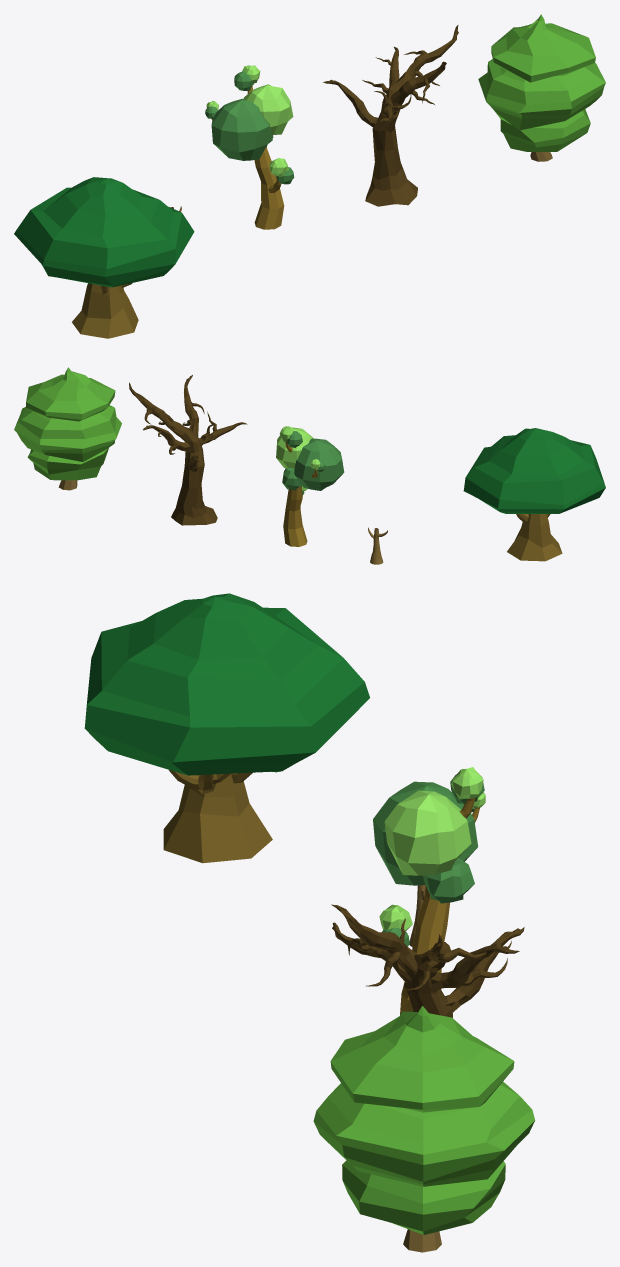
File: forest.fbx
3 views of the same model, one above another, from view 1: azimuth 30°, elevation 25°; view 2: azimuth 150°, elevation 25°; view 3: azimuth 270°, elevation 25° (orthographic). The views are drawn at different scales.
Visible parts, largest first — view 1: Circle.005, Circle.007, Circle, Circle.006; view 2: Circle.005, Circle.007, Circle, Circle.006, Circle.003; view 3: Circle.005, Circle.007, Circle, Circle.006.
Part boxes in pixels (x1,y1,x2,y2): Circle.005: (14, 177, 194, 338); Circle.007: (478, 14, 605, 161); Circle: (205, 65, 294, 229); Circle.006: (323, 25, 458, 206); Circle.005: (463, 428, 605, 561); Circle.007: (14, 367, 121, 490); Circle: (276, 426, 344, 546); Circle.006: (129, 375, 247, 525); Circle.003: (368, 527, 387, 564); Circle.005: (84, 593, 369, 863); Circle.007: (313, 1005, 535, 1252); Circle: (373, 767, 485, 1014); Circle.006: (331, 904, 524, 1017).
Bounding box in the file's own units: 5250 × 1218 × 1956.
